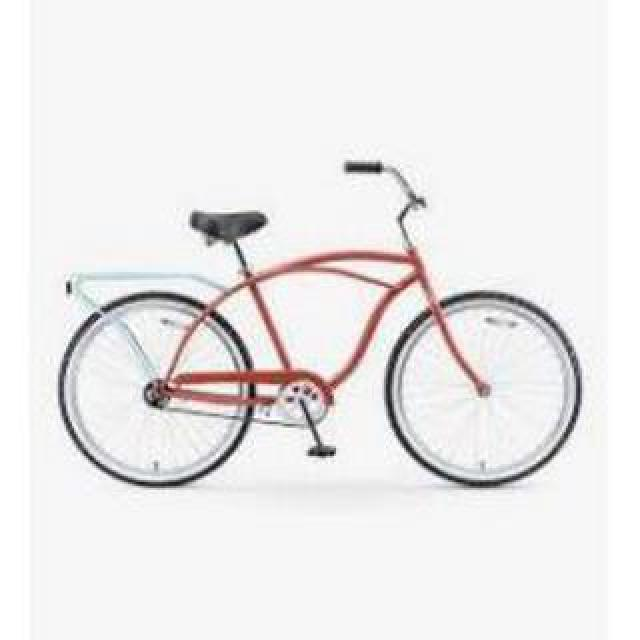Person: (56, 152, 582, 494)
